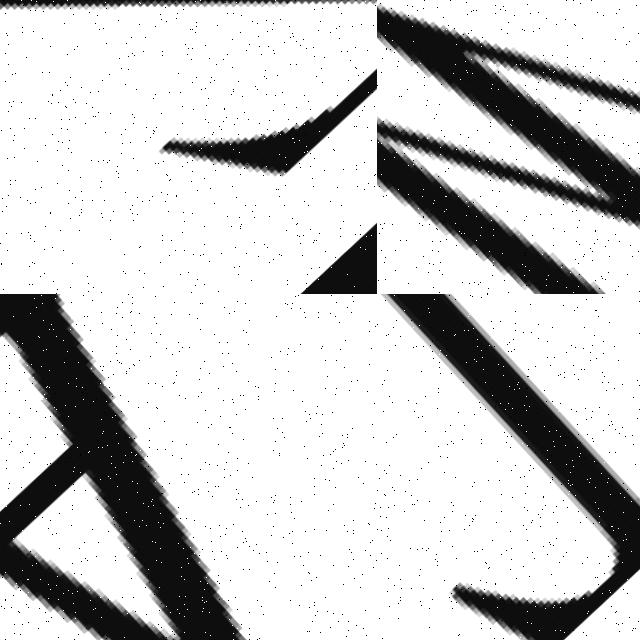A: (0, 294, 377, 640)
T: (377, 294, 640, 640)
W: (377, 0, 640, 294)
Z: (0, 0, 377, 294)
